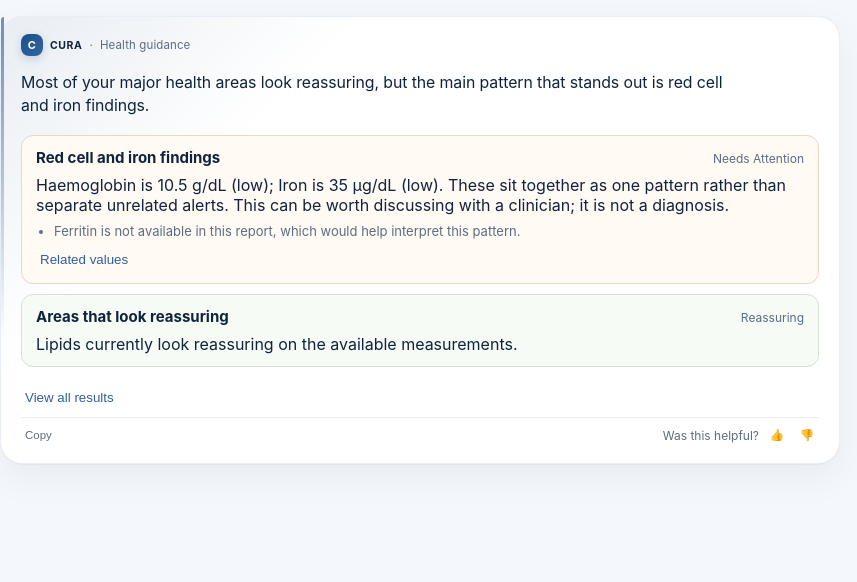
Test case: MessageList narrative summary › progressively discloses related values on a theme
The width and height of the screenshot is (857, 582).
Click the button "Related values".
click(84, 259)  # box 36,247 -> 132,271
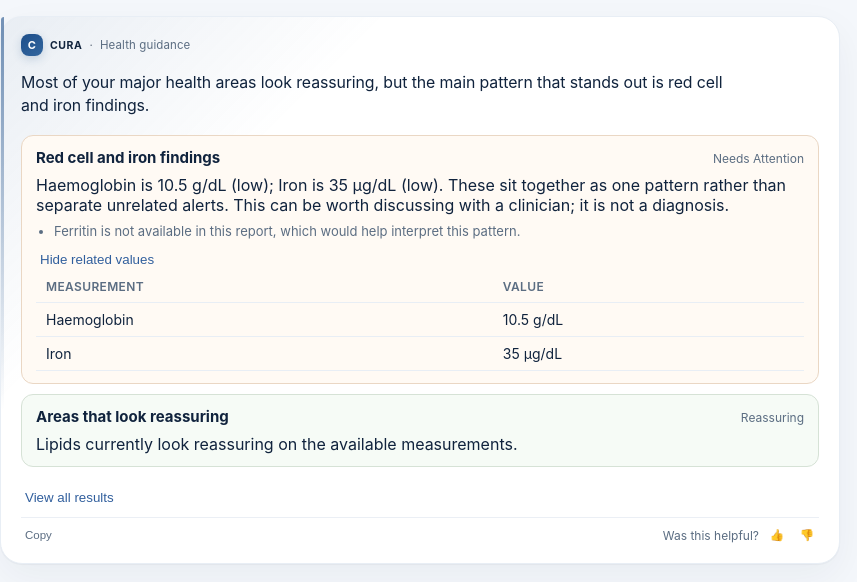
Check: the column heading "Measurement" is shown, box 36,271 -> 493,302
Check: the text "Haemoglobin" is shown, box 36,302 -> 493,336
